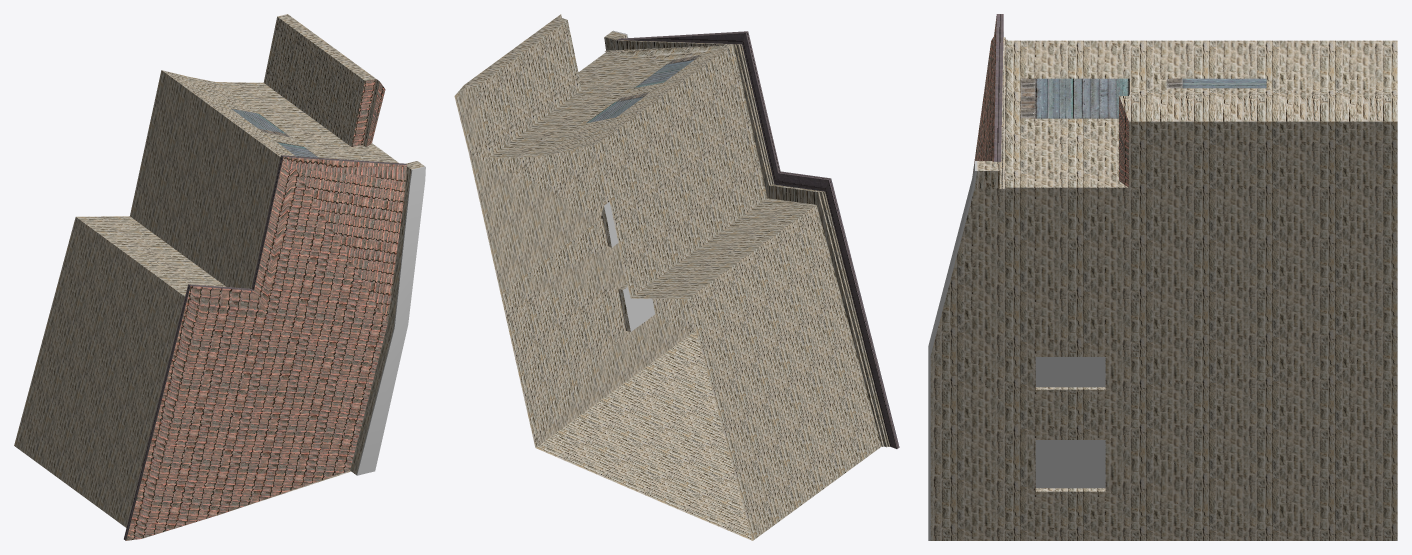
The model's file is Pikk_64_2-origo.obj.
3 views of the same model, side by side, from view 1: azimuth 30°, elevation 25°; view 2: azimuth 150°, elevation 25°; view 3: azimuth 270°, elevation 25° (orthographic). The views are drawn at different scales.
Visible parts, largest first — view 1: Pikk64_2; view 2: Pikk64_2; view 3: Pikk64_2.
Part boxes in pixels (x1,y1,x2,y2): Pikk64_2: (14,14,425,540); Pikk64_2: (454,14,899,540); Pikk64_2: (928,14,1397,540).
Size of the model in its own units: 12.31 by 14.5 by 11.17.
